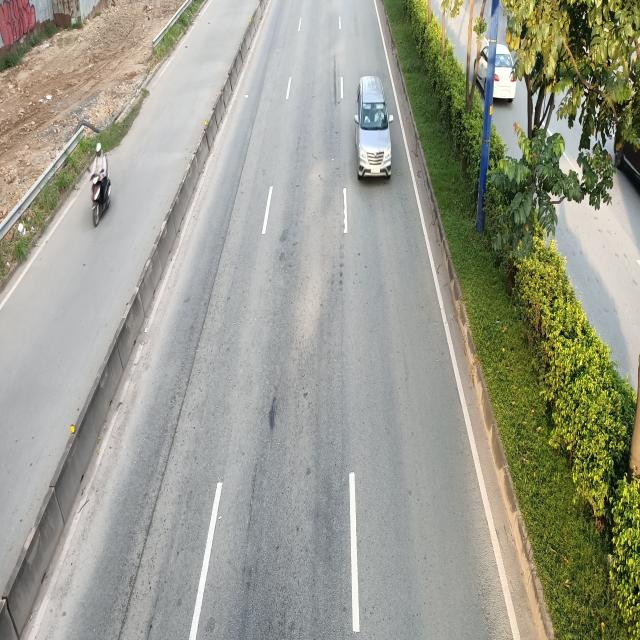car: (353, 77, 392, 184)
